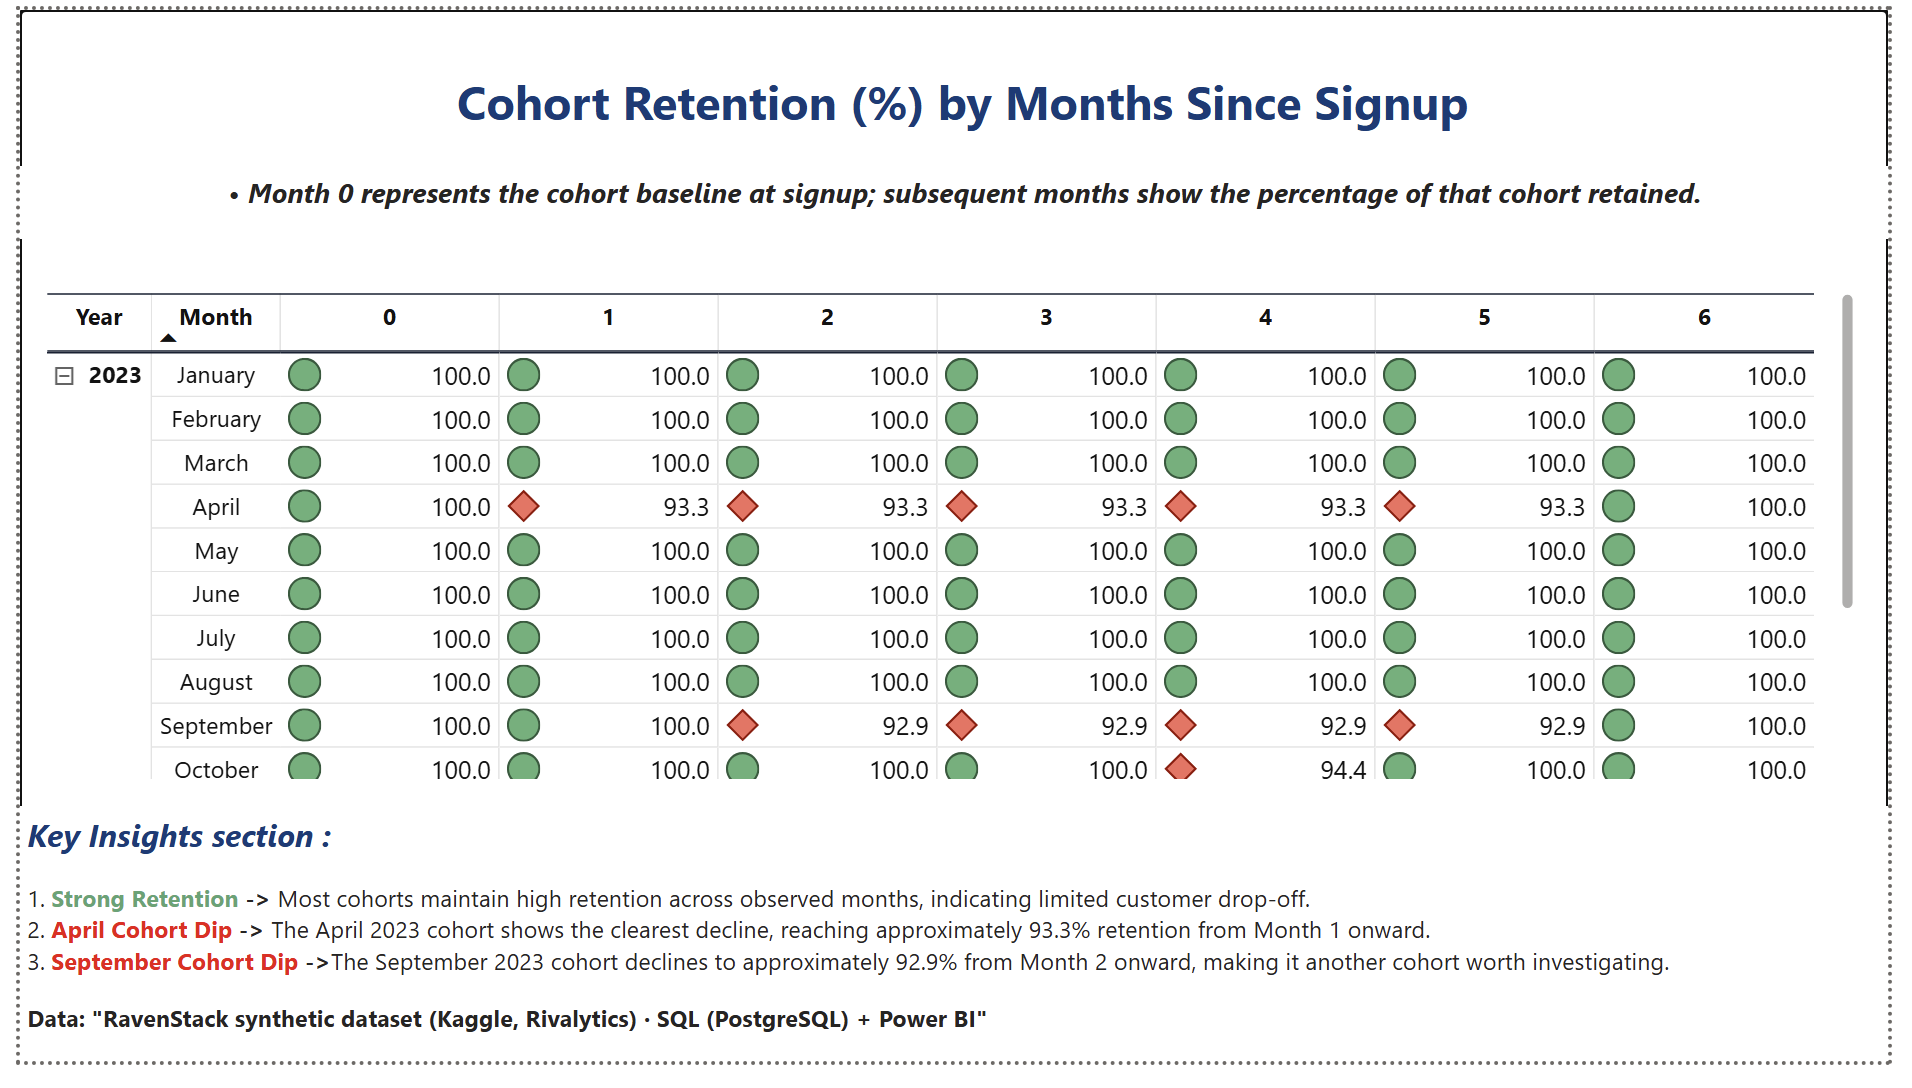

This screenshot's page, from the dashboard's own definition file:
{"tool":"powerbi","page":{"name":"Cohort Retention","canvas":[1280,720],"ordinal":1},"visuals":[{"type":"pivotTable","fields":{"Columns":["cohort_retention_results.month_number","cohort_retention_results.cohort_total"],"Rows":["cohort_retention_results.cohort_month.Variation.Date Hierarchy.Year","cohort_retention_results.cohort_month.Variation.Date Hierarchy.Month"],"Values":["Avg(cohort_retention_results.retention_pct)","select"]},"box":[13.8,188.8,1247.5,342.5],"z":0},{"type":"textbox","box":[207.5,17.5,837.5,77.5],"z":1000},{"type":"textbox","box":[0,107.1,1280,50],"z":2000},{"type":"textbox","box":[0,545,1280,178.8],"z":3000}]}

Visuals, with their boxes in screenshot pixels (x1, y1, x2, y2), scaled from the page's 1280x720 canvas onto the 1912x1088 screenshot:
pivotTable - cohort_retention_results.month_number x cohort_retention_results.cohort_total: <region>21, 285, 1884, 803</region>
textbox: <region>310, 26, 1561, 144</region>
textbox: <region>0, 162, 1911, 237</region>
textbox: <region>0, 824, 1911, 1087</region>
